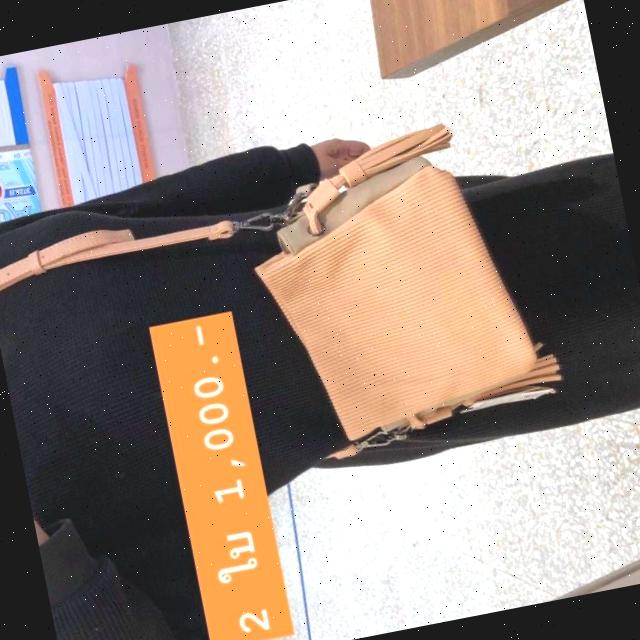handbag: (238, 110, 564, 463)
